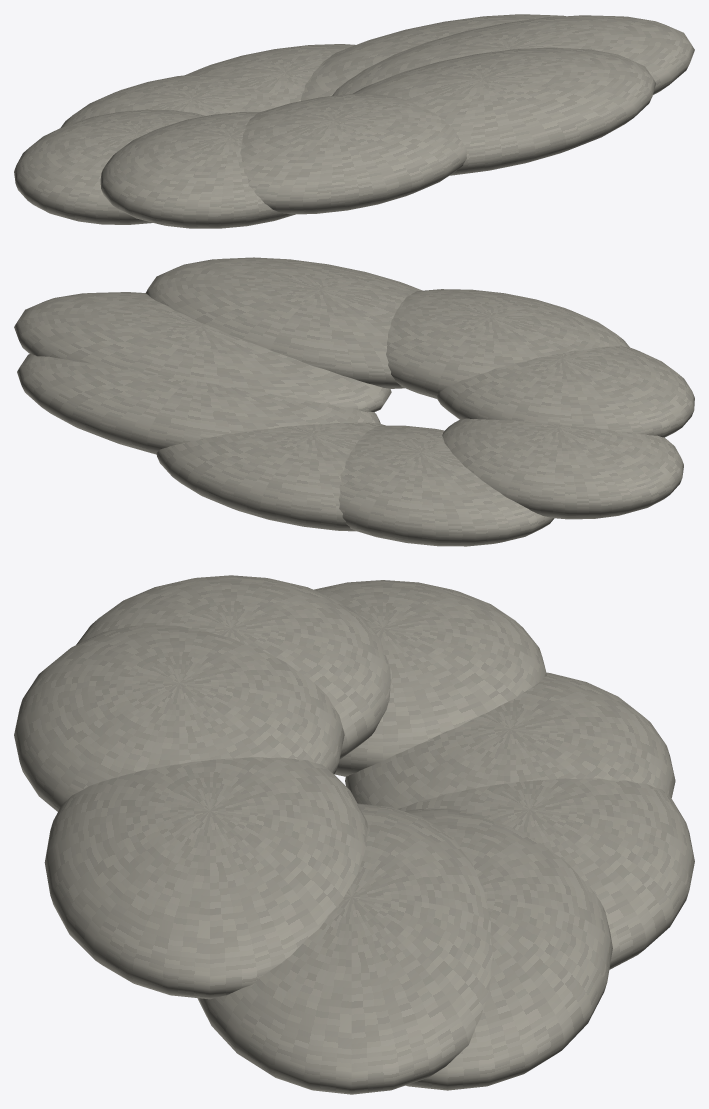
Rendered from rubble.glb.
The picture shows the model from 3 angles, top to bottom: view 1: azimuth 30°, elevation 25°; view 2: azimuth 150°, elevation 25°; view 3: azimuth 270°, elevation 25°; orthographic projection. The views are drawn at different scales.
Visible parts, largest first — view 1: fragment (×8); view 2: fragment (×8); view 3: fragment (×8).
Boxes of the visible parts, <box> form: fragment (×8): <box>14,14,694,228</box>; fragment (×8): <box>14,257,694,546</box>; fragment (×8): <box>14,575,694,1094</box>.
Size of the model in its own units: 0.6766 by 0.1152 by 0.3913.
1 material, 1 textured.
